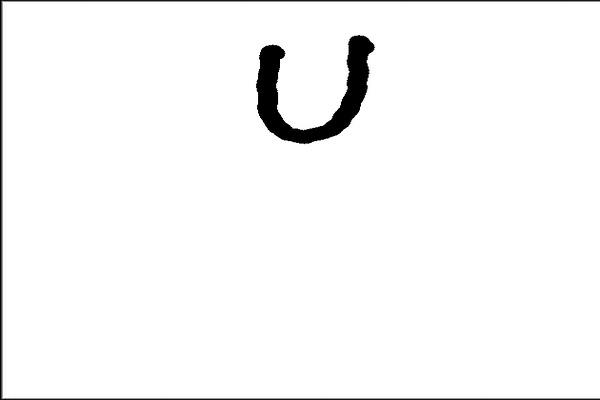U: (233, 26, 375, 146)
